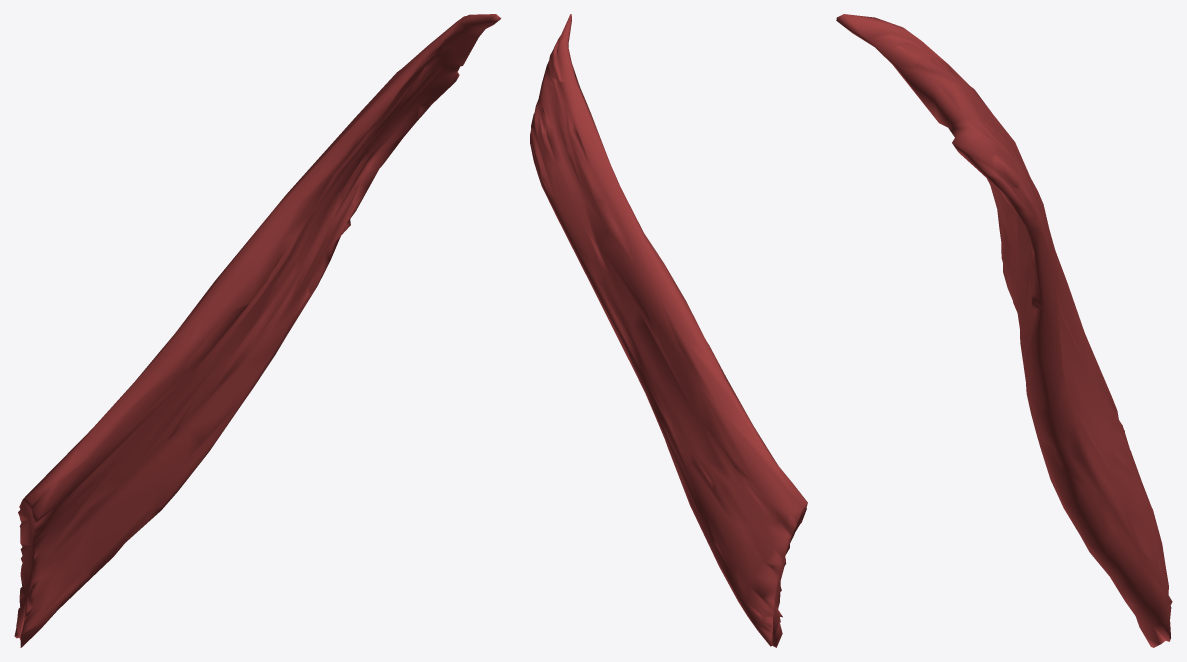
Rendered from rhomboid-minor-muscle-r.glb.
The picture shows the model from 3 angles, left to right: view 1: azimuth 30°, elevation 25°; view 2: azimuth 150°, elevation 25°; view 3: azimuth 270°, elevation 25°; orthographic projection. The views are drawn at different scales.
Parts seen in each view (by area): view 1: Rhomboid minor muscle.r; view 2: Rhomboid minor muscle.r; view 3: Rhomboid minor muscle.r.
Boxes of the visible parts, x1,y1,x2,y2 form: Rhomboid minor muscle.r: [14, 14, 501, 647]; Rhomboid minor muscle.r: [530, 14, 807, 647]; Rhomboid minor muscle.r: [836, 14, 1172, 647].
Bounding box in the file's own units: 0.0654 × 0.1011 × 0.0347.
